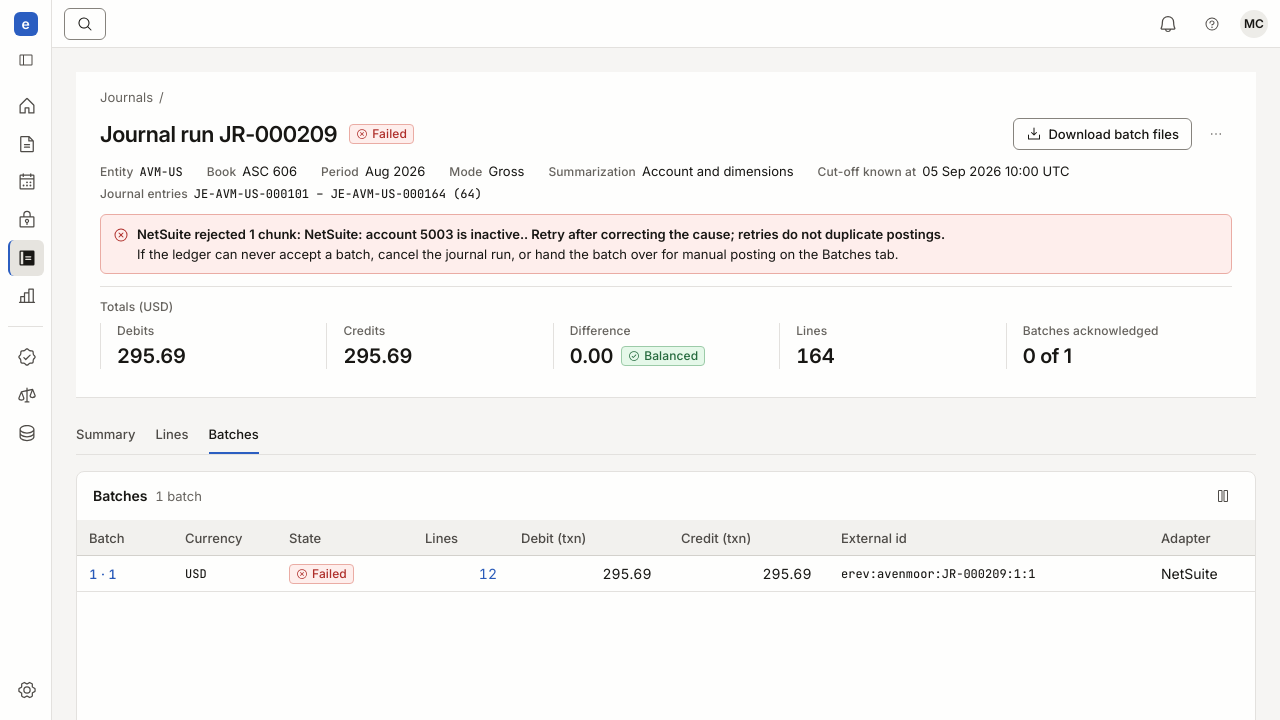
Test case: SF-06 journal runs › commands of a run are asked for its entity
Expected: the button "1 · 1" is shown, x1=89 y1=564 x2=117 y2=582
Expected: the button "Download batch files" is shown, x1=1014 y1=118 x2=1192 y2=150
Click the button named "More actions" at {"x": 1216, "y": 134}, box x1=1200 y1=118 x2=1232 y2=150
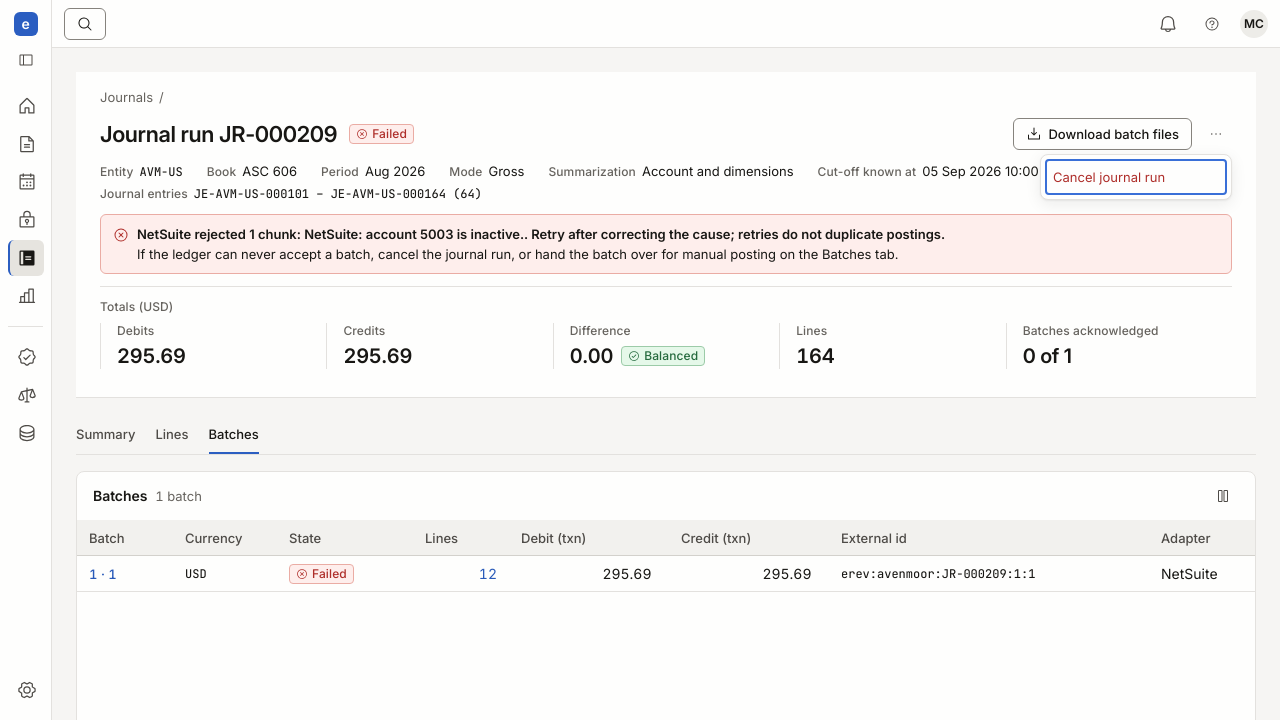
Now the menu item "Cancel journal run" is shown, box x1=1045 y1=159 x2=1227 y2=195
